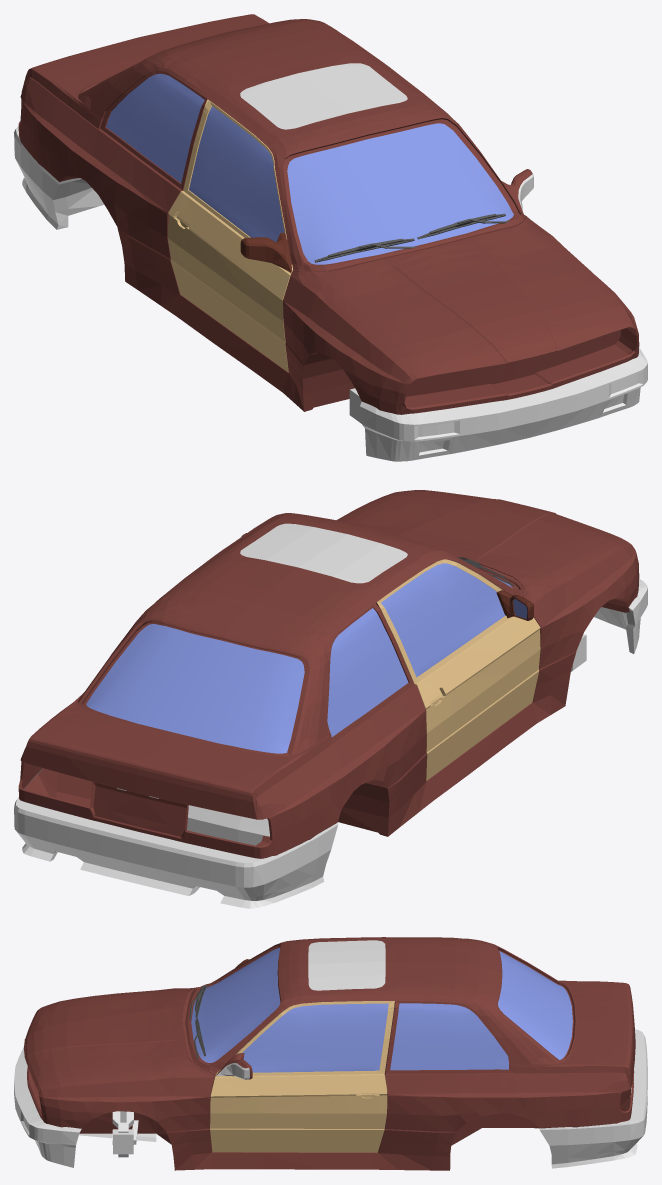
File: Car Interior.fbx
3 views of the same model, one above another, from view 1: azimuth 30°, elevation 25°; view 2: azimuth 150°, elevation 25°; view 3: azimuth 270°, elevation 25° (orthographic). The views are drawn at different scales.
Visible parts, largest first — view 1: Car, Window Front, Window Right 1, Window Right 2, wiper Right; view 2: Car, Window Back, Window Right 1, Window Right 2; view 3: Car, Window Left 1, Window Left 2, Window Front, Window Back.
Part boxes in pixels (x1,y1,x2,y2): Car: (14,14,647,461); Window Front: (287,123,513,264); Window Right 1: (189,106,284,241); Window Right 2: (106,73,204,182); wiper Right: (314,238,417,262); Car: (14,490,647,908); Window Back: (86,624,304,753); Window Right 1: (381,563,505,677); Window Right 2: (327,608,408,736); Car: (14,937,647,1170); Window Left 1: (242,1003,388,1072); Window Left 2: (390,1003,508,1070); Window Front: (191,947,280,1062); Window Back: (498,951,572,1059).
Bounding box in the file's own units: 175 × 120 × 430.
